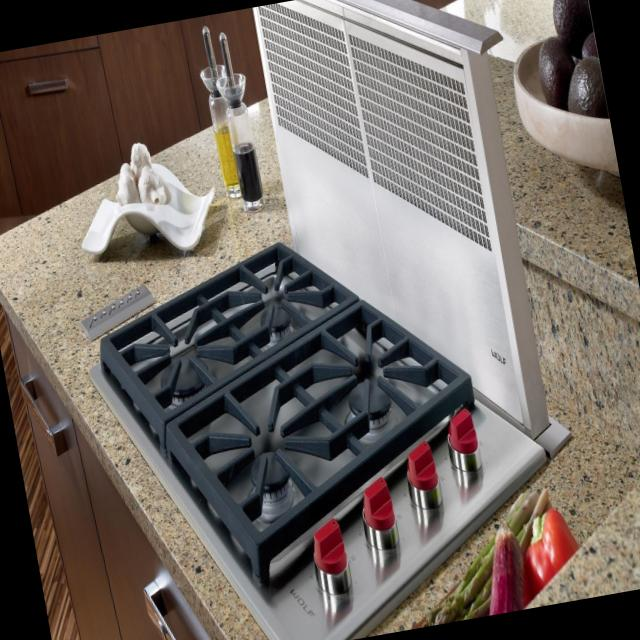knob_OFF: (155, 353, 394, 560), (277, 289, 487, 455), (84, 283, 269, 435), (188, 213, 362, 351)
